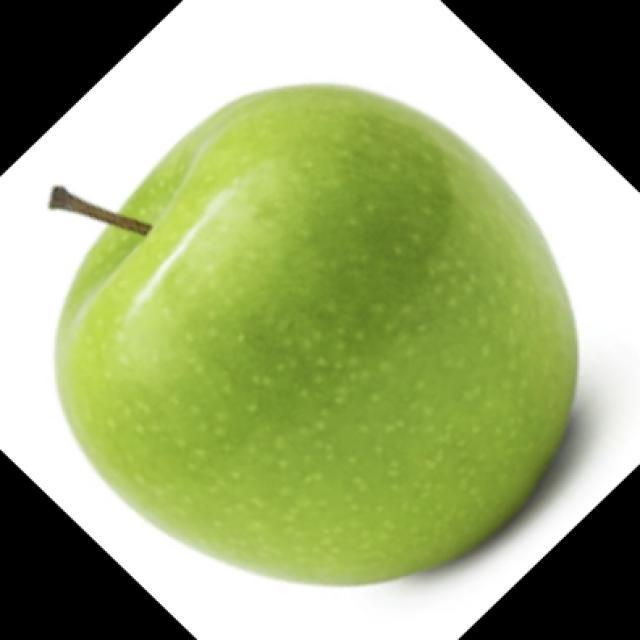Fresh Apple: (73, 78, 557, 537)
